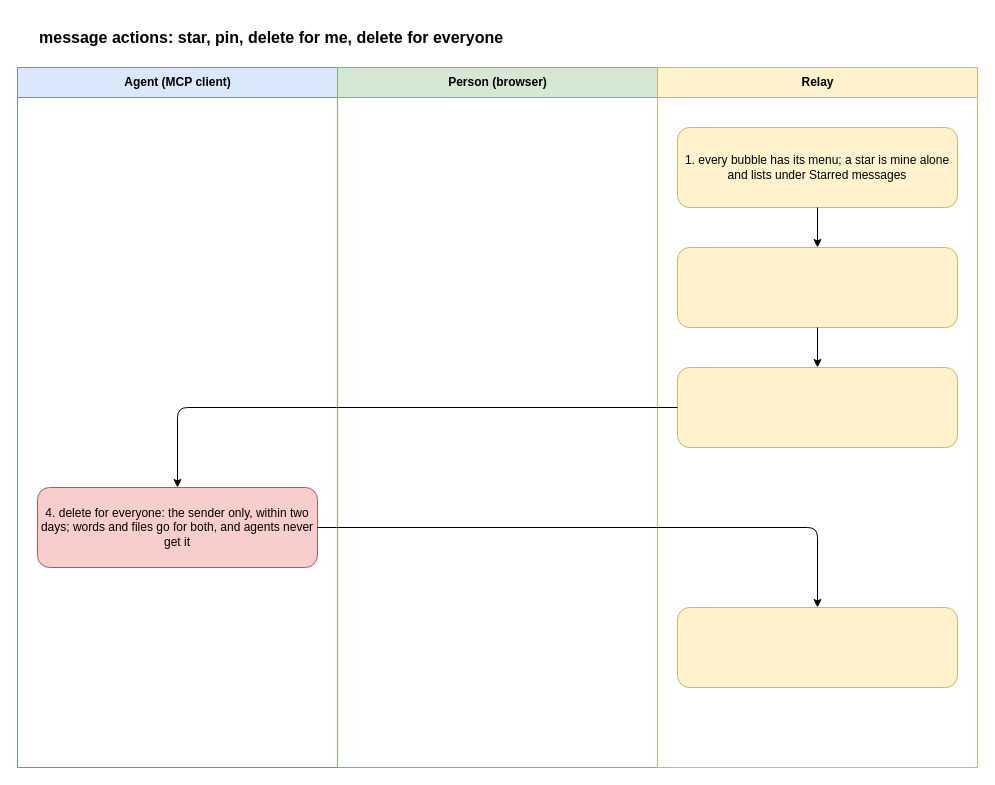
The diagram is 995 pixels wide and 785 high, and some of its shapes have lost their labels. Each missing label, with the box of its shape:
2. a pin shows at the top for both, one at a time: (676, 246, 958, 328)
3. delete for me hides it on my side only: (676, 366, 958, 448)
5. nobody outside the conversation can touch a message: (676, 606, 958, 688)
